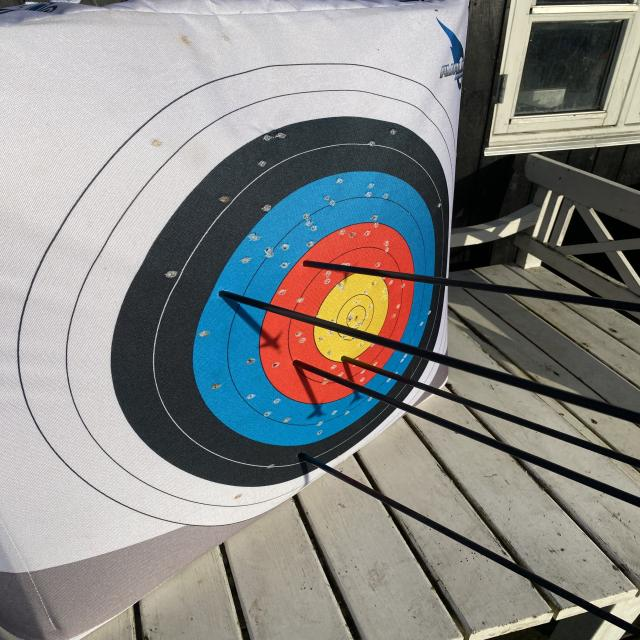Arrow_Black: (291, 444, 320, 477)
Arrow_Blue: (202, 279, 249, 316)
Arrow_Red: (292, 248, 327, 282), (288, 353, 314, 373)
Arrow_Yellow: (335, 350, 363, 371)
